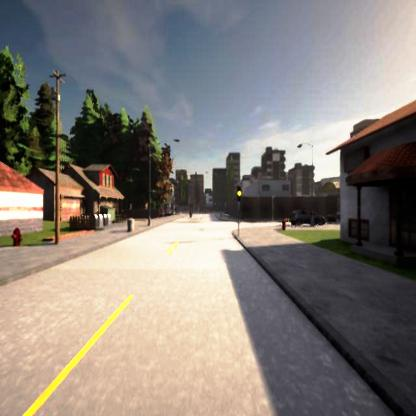vehicle: (290, 209, 325, 226)
